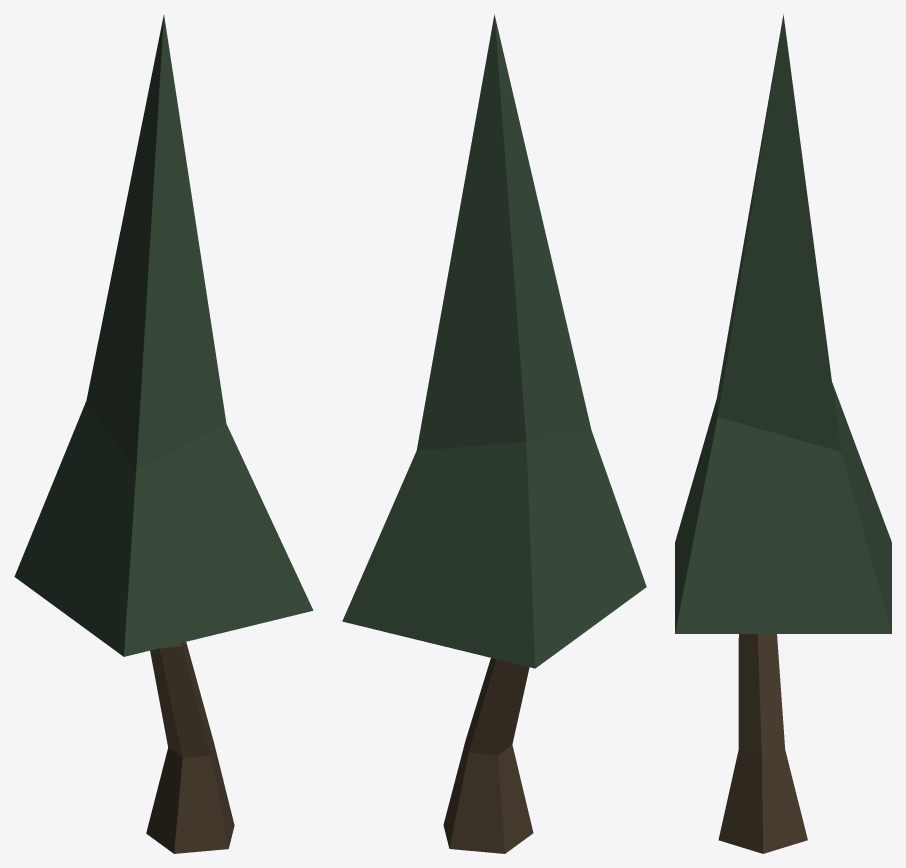
Rendered from SM_Env_TreePine_04.gltf.
3 views of the same model, side by side, from view 1: azimuth 30°, elevation 25°; view 2: azimuth 150°, elevation 25°; view 3: azimuth 270°, elevation 25° (orthographic). The views are drawn at different scales.
Parts seen in each view (by area): view 1: SM_Env_TreePine_04; view 2: SM_Env_TreePine_04; view 3: SM_Env_TreePine_04.
Part boxes in pixels (bbox=[...]): SM_Env_TreePine_04: bbox=[14, 15, 313, 853]; SM_Env_TreePine_04: bbox=[342, 14, 646, 853]; SM_Env_TreePine_04: bbox=[675, 14, 891, 853].
Size of the model in its own units: 1.2 by 4.93 by 1.2.
1 material, 1 textured.
